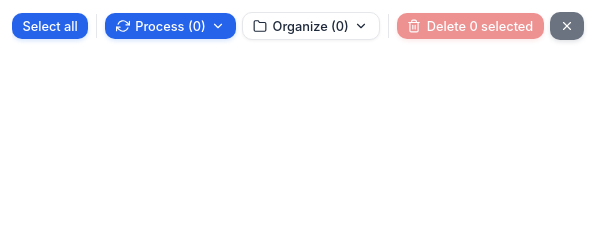
Test: GallerySelectionActions — bulk tag entries › offers one Tags entry in Organize, not separate add and remove
Click the button titled "Add to collection or export transcripts for selected files". click: (311, 26)
box: [242,12,380,40]
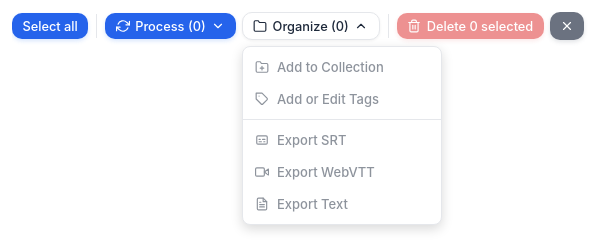
Result: the button "Add or Edit Tags" is shown at [243,83,441,115]
